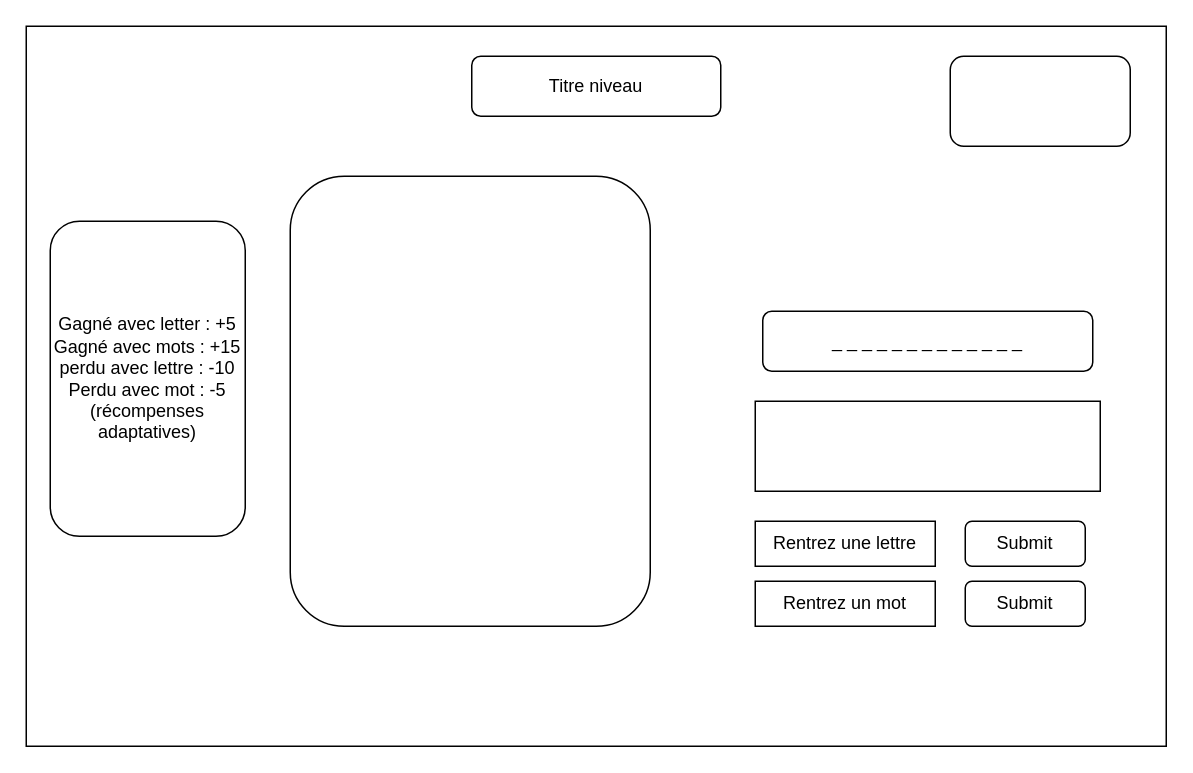
The diagram is 1193 pixels wide and 773 high, and some of its shapes have lost their labels. Here are the shapes that lost their labels. From the top down, the centre of each, then its label:
At point 1039,100: "Pseudo Niveau Points".
At point 469,400: "HANGMAN DESSIN".
At point 927,445: "Historique des lettres".
